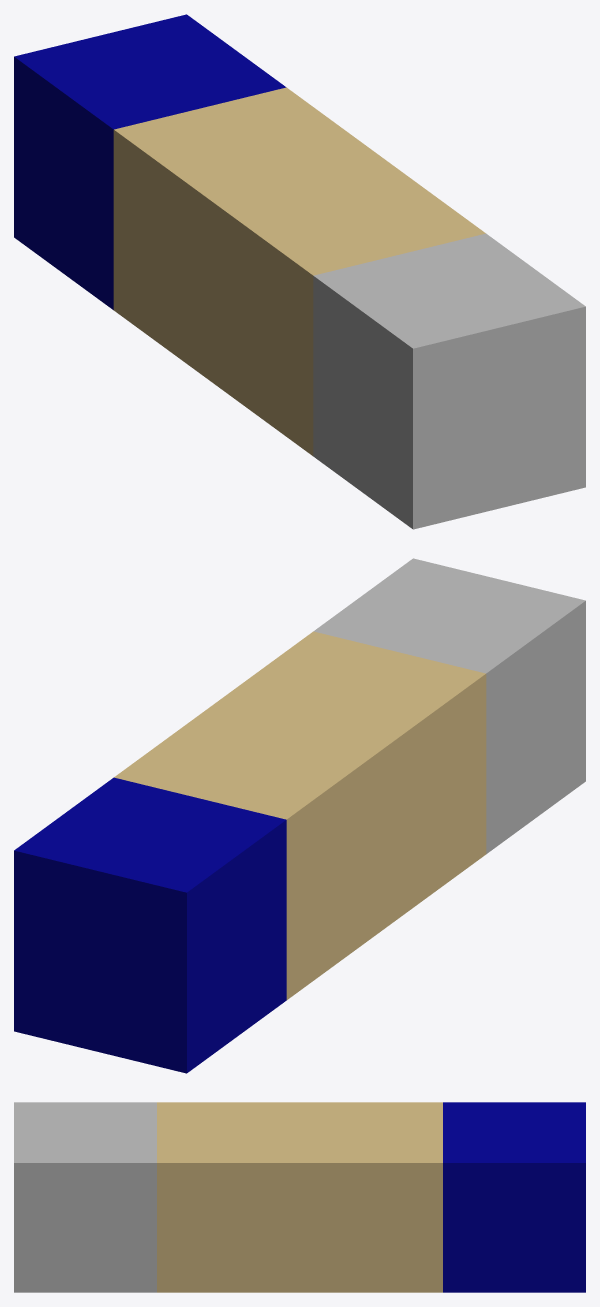
File: Arrow.obj
3 renders of one model, top to bottom at view 1: azimuth 30°, elevation 25°; view 2: azimuth 150°, elevation 25°; view 3: azimuth 270°, elevation 25°, orthographic. The views are drawn at different scales.
Bounding box in the file's own units: 0.1 × 0.1 × 0.4.
